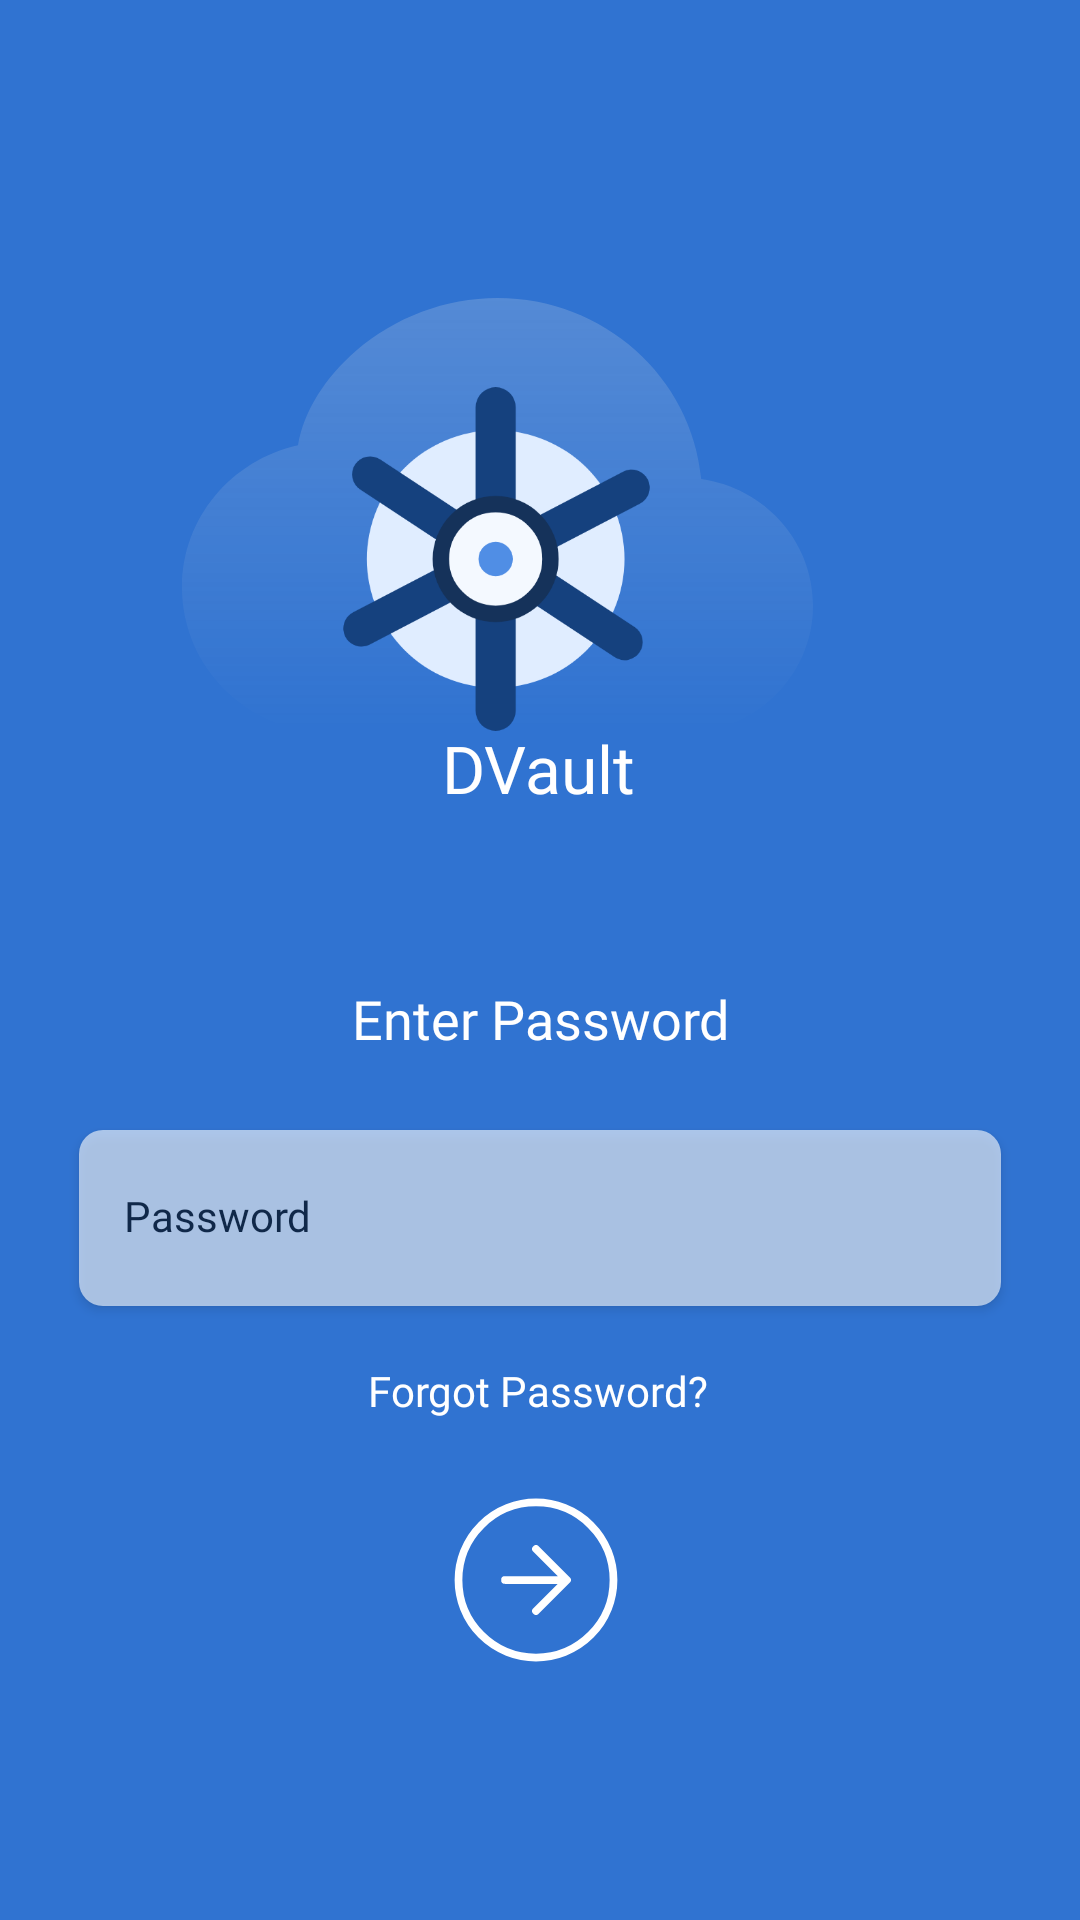

Icon bounding boxes for this 1080×1920 phone screenshot, format (x1, y1, x2, y2):
arrow right circle: (454, 1498, 618, 1662)
